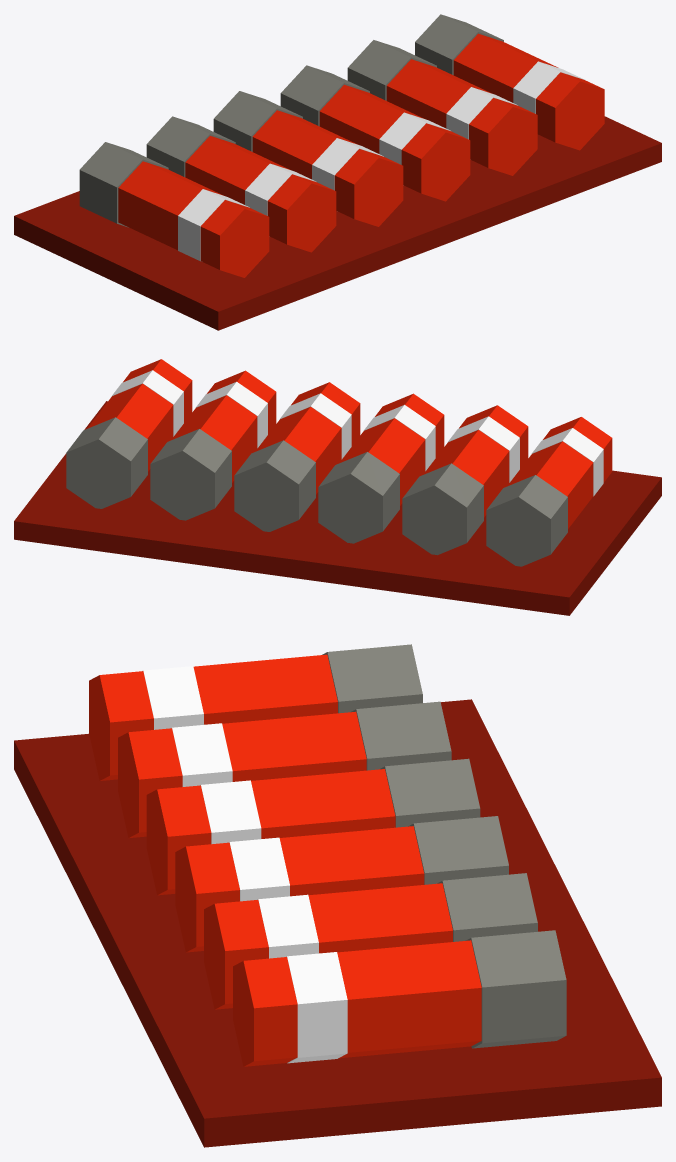
File: ce_ammo_chshotgun_conc_b.obj
The picture shows the model from 3 angles, top to bottom: view 1: azimuth 30°, elevation 25°; view 2: azimuth 150°, elevation 25°; view 3: azimuth 270°, elevation 25°; orthographic projection. The views are drawn at different scales.
Parts seen in each view (by area): view 1: ce_ammo_chshotgun_conc_b_0, ce_ammo_chshotgun_conc_b_2, ce_ammo_chshotgun_conc_b_4, ce_ammo_chshotgun_conc_b_16, ce_ammo_chshotgun_conc_b_12, ce_ammo_chshotgun_conc_b_8, ce_ammo_chshotgun_conc_b_24, ce_ammo_chshotgun_conc_b_20, ce_ammo_chshotgun_conc_b_18, ce_ammo_chshotgun_conc_b_14, ce_ammo_chshotgun_conc_b_22, ce_ammo_chshotgun_conc_b_6 (+13 smaller); view 2: ce_ammo_chshotgun_conc_b_0, ce_ammo_chshotgun_conc_b_5, ce_ammo_chshotgun_conc_b_1, ce_ammo_chshotgun_conc_b_13, ce_ammo_chshotgun_conc_b_17, ce_ammo_chshotgun_conc_b_21, ce_ammo_chshotgun_conc_b_9, ce_ammo_chshotgun_conc_b_2, ce_ammo_chshotgun_conc_b_18, ce_ammo_chshotgun_conc_b_14, ce_ammo_chshotgun_conc_b_6, ce_ammo_chshotgun_conc_b_10 (+13 smaller); view 3: ce_ammo_chshotgun_conc_b_0, ce_ammo_chshotgun_conc_b_22, ce_ammo_chshotgun_conc_b_21, ce_ammo_chshotgun_conc_b_6, ce_ammo_chshotgun_conc_b_14, ce_ammo_chshotgun_conc_b_10, ce_ammo_chshotgun_conc_b_18, ce_ammo_chshotgun_conc_b_2, ce_ammo_chshotgun_conc_b_24, ce_ammo_chshotgun_conc_b_23, ce_ammo_chshotgun_conc_b_5, ce_ammo_chshotgun_conc_b_13 (+13 smaller).
Boxes of the visible parts, x1,y1,x2,y2 form: ce_ammo_chshotgun_conc_b_0: [14, 116, 661, 330]; ce_ammo_chshotgun_conc_b_2: [118, 161, 223, 250]; ce_ammo_chshotgun_conc_b_4: [200, 200, 269, 277]; ce_ammo_chshotgun_conc_b_16: [401, 123, 470, 201]; ce_ammo_chshotgun_conc_b_12: [334, 149, 403, 226]; ce_ammo_chshotgun_conc_b_8: [267, 174, 336, 252]; ce_ammo_chshotgun_conc_b_24: [536, 72, 604, 150]; ce_ammo_chshotgun_conc_b_20: [469, 98, 537, 175]; ce_ammo_chshotgun_conc_b_18: [386, 59, 491, 128]; ce_ammo_chshotgun_conc_b_14: [319, 84, 424, 153]; ce_ammo_chshotgun_conc_b_22: [453, 33, 558, 102]; ce_ammo_chshotgun_conc_b_6: [185, 136, 289, 204]; ce_ammo_chshotgun_conc_b_0: [14, 401, 661, 615]; ce_ammo_chshotgun_conc_b_5: [402, 463, 483, 555]; ce_ammo_chshotgun_conc_b_1: [486, 475, 567, 566]; ce_ammo_chshotgun_conc_b_13: [234, 440, 315, 531]; ce_ammo_chshotgun_conc_b_17: [150, 429, 231, 520]; ce_ammo_chshotgun_conc_b_21: [66, 417, 147, 508]; ce_ammo_chshotgun_conc_b_9: [318, 452, 399, 543]; ce_ammo_chshotgun_conc_b_2: [507, 441, 593, 528]; ce_ammo_chshotgun_conc_b_18: [171, 395, 257, 482]; ce_ammo_chshotgun_conc_b_14: [255, 406, 341, 494]; ce_ammo_chshotgun_conc_b_6: [423, 430, 509, 517]; ce_ammo_chshotgun_conc_b_10: [339, 418, 425, 505]; ce_ammo_chshotgun_conc_b_0: [14, 699, 661, 1147]; ce_ammo_chshotgun_conc_b_22: [337, 940, 481, 1058]; ce_ammo_chshotgun_conc_b_21: [465, 930, 566, 1048]; ce_ammo_chshotgun_conc_b_6: [222, 711, 366, 781]; ce_ammo_chshotgun_conc_b_14: [279, 826, 424, 896]; ce_ammo_chshotgun_conc_b_10: [251, 769, 395, 838]; ce_ammo_chshotgun_conc_b_18: [308, 883, 452, 953]; ce_ammo_chshotgun_conc_b_2: [193, 654, 337, 724]; ce_ammo_chshotgun_conc_b_24: [233, 957, 297, 1066]; ce_ammo_chshotgun_conc_b_23: [286, 952, 347, 1063]; ce_ammo_chshotgun_conc_b_5: [351, 701, 451, 770]; ce_ammo_chshotgun_conc_b_13: [408, 816, 508, 884].
Size of the model in its own units: 0.9326 by 0.1427 by 0.6092.
